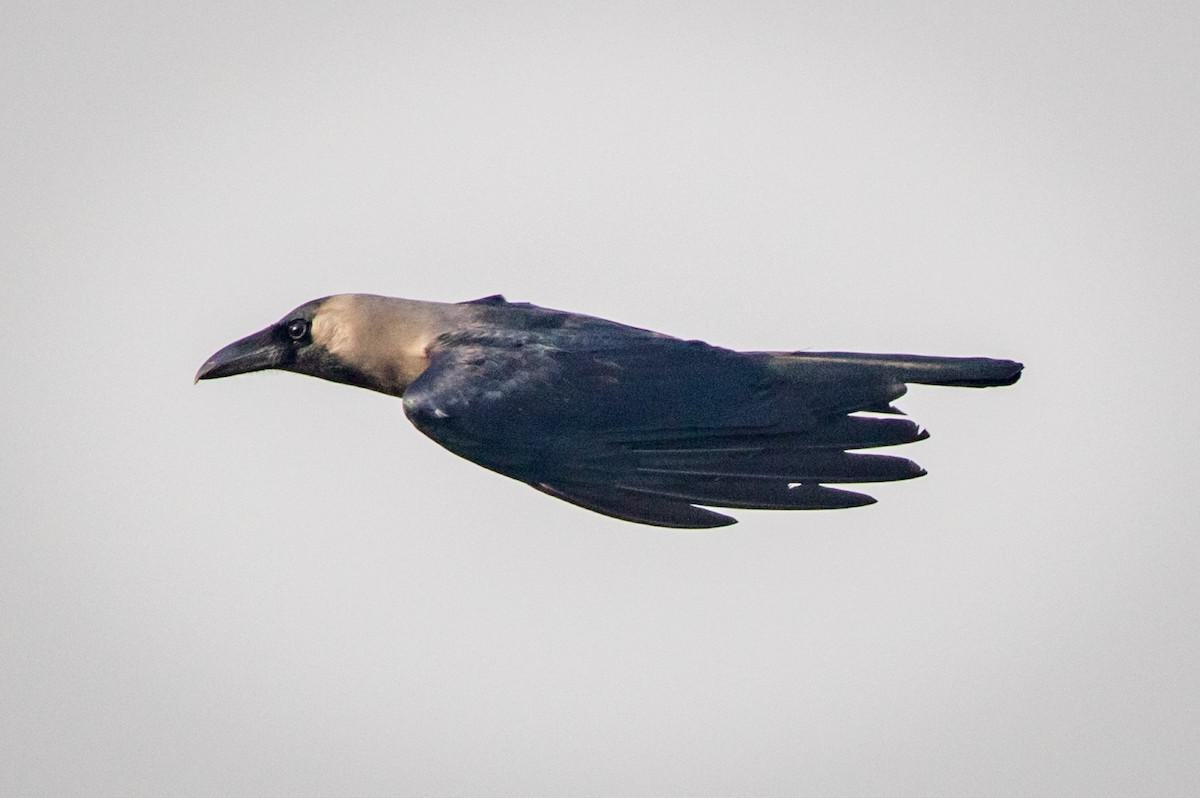crow: (193, 280, 1041, 537)
